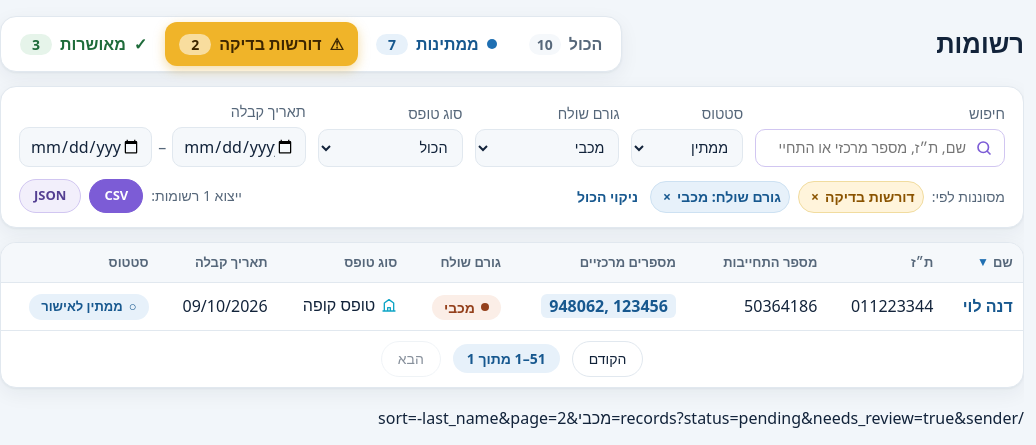
Scenario: RecordsPage › the filters in use show as chips: one takes itself off, the last button all of them
Click the button with aria-label "הסרת הסינון גורם שולח: מכבי" at (720,197), box [650, 181, 790, 213]
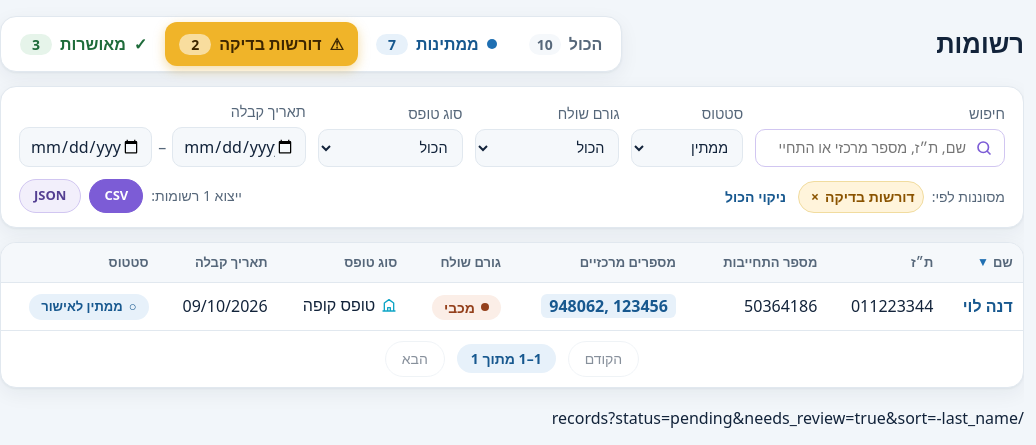
Expected: the text with test id "where" reads "/records?status=pending&needs_review=true&sort=-last_name", [552, 407, 1024, 429]
Click the button "ניקוי הכול" at (756,197), box [721, 184, 790, 209]
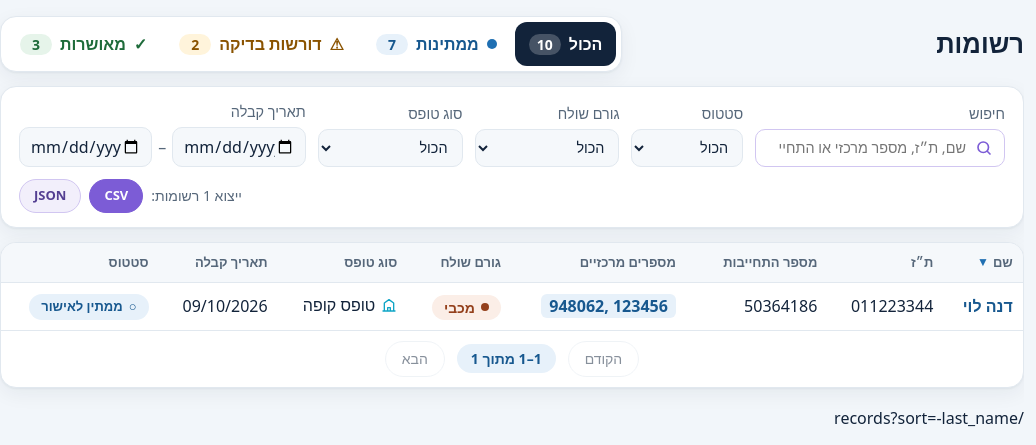
Expected: the text with test id "where" reads "/records?sort=-last_name", [834, 407, 1024, 429]
